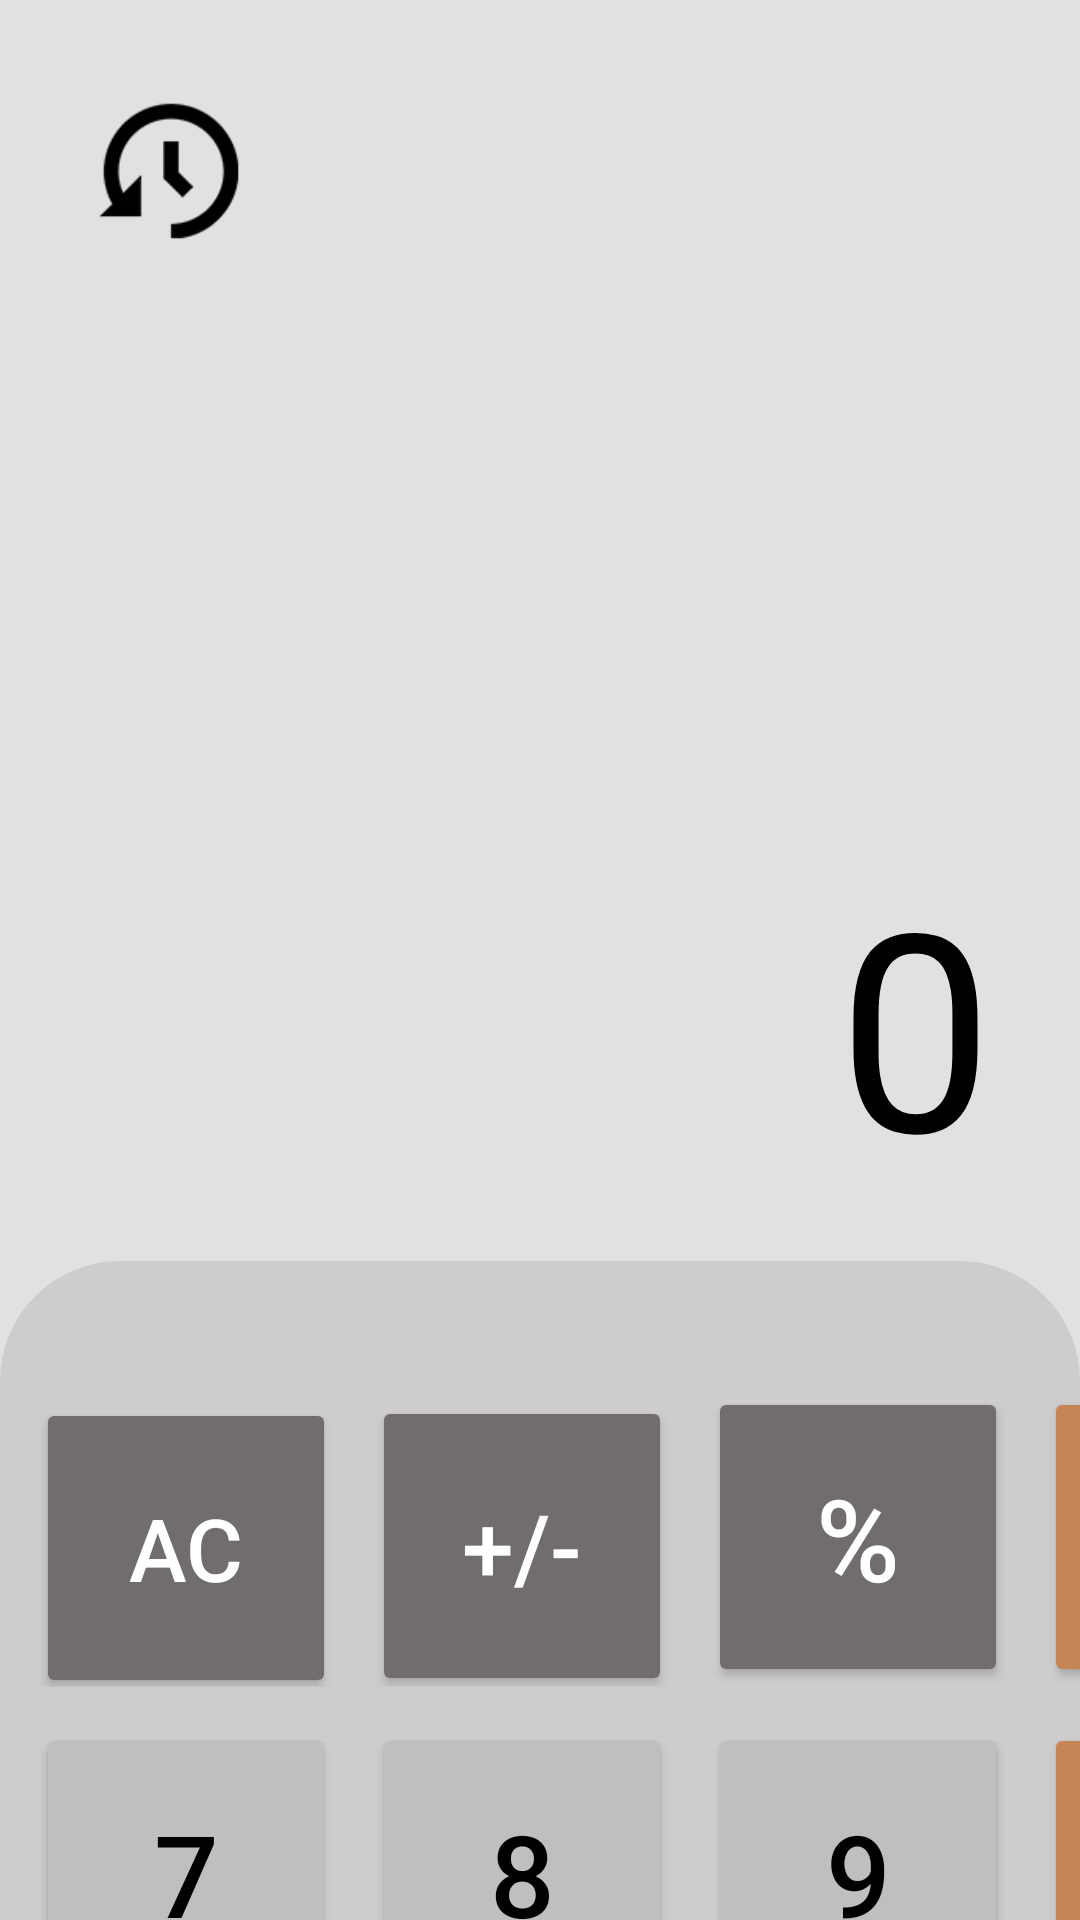

Locate icon controls on the screen. Image size 1080w x 1920h, boxes as {"x1": x1, "y1": y1, "x2": x2, "y2": y2}.
history: {"x1": 100, "y1": 103, "x2": 239, "y2": 239}
